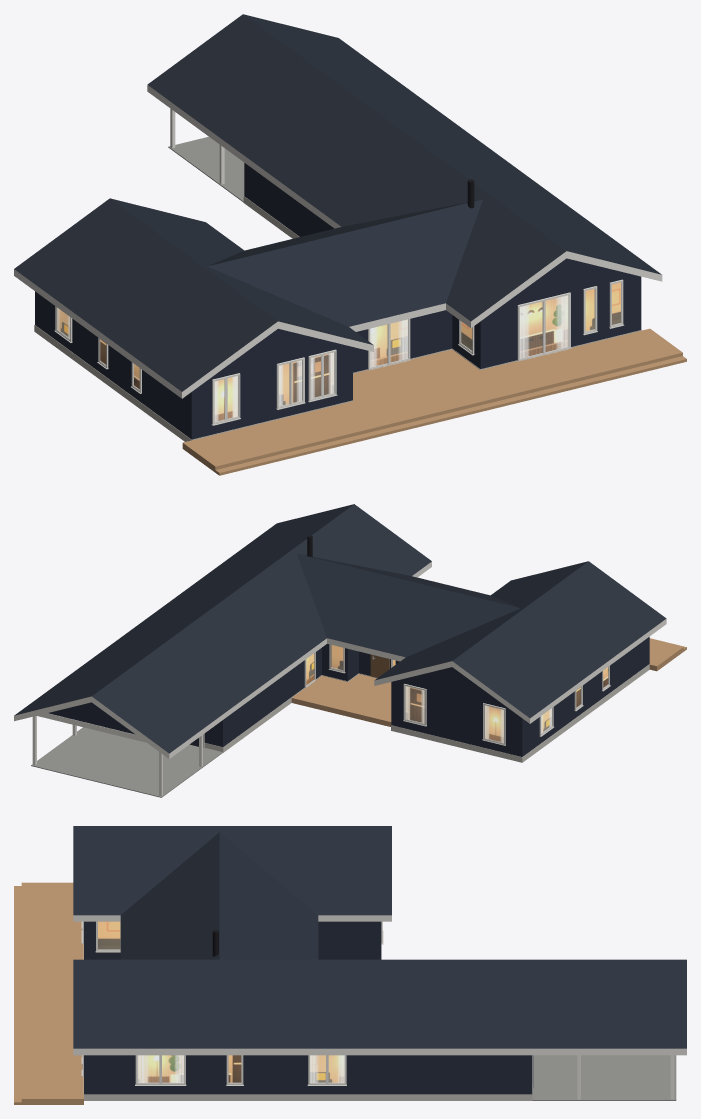
Rendered from teder270_c1_p0_m0.glb.
3 renders of one model, top to bottom at view 1: azimuth 30°, elevation 25°; view 2: azimuth 150°, elevation 25°; view 3: azimuth 270°, elevation 25°, orthographic. The views are drawn at different scales.
Parts seen in each view (by area): view 1: roof, wall, deck, glass, fascia, room, frame, sheer, plinth, paving; view 2: roof, wall, paving, fascia, deck, plinth, room, glass, frame, sheer; view 3: roof, wall, deck, paving, fascia, plinth, glass, room, frame, sheer.
Boxes of the visible parts, x1,y1,x2,y2 form: roof: [14, 14, 661, 391]; wall: [35, 163, 641, 439]; deck: [182, 328, 686, 475]; glass: [57, 283, 620, 421]; fascia: [14, 85, 662, 398]; room: [58, 282, 620, 420]; frame: [54, 279, 624, 425]; sheer: [57, 295, 568, 421]; plinth: [34, 196, 641, 441]; paving: [168, 136, 244, 202]; roof: [14, 504, 666, 753]; wall: [48, 637, 649, 756]; paving: [31, 727, 222, 797]; fascia: [14, 561, 666, 796]; deck: [291, 638, 686, 726]; plinth: [204, 664, 649, 762]; room: [306, 645, 608, 741]; glass: [307, 645, 607, 742]; frame: [203, 644, 610, 747]; sheer: [405, 686, 551, 742]; roof: [73, 826, 686, 1048]; wall: [84, 921, 532, 1094]; deck: [14, 882, 83, 1104]; paving: [532, 1055, 676, 1100]; fascia: [73, 915, 686, 1099]; plinth: [83, 944, 532, 1100]; glass: [98, 922, 343, 1082]; room: [98, 921, 343, 1082]; frame: [81, 921, 533, 1089]; sheer: [137, 1055, 344, 1082].
Bounding box in the file's own units: 21.93 × 5.66 × 28.07.
Materials: 15 (6 with a texture image).
